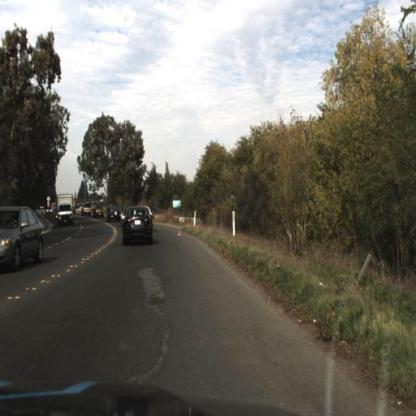car: (1, 204, 47, 274), (121, 206, 156, 243), (108, 202, 124, 228), (91, 205, 108, 226), (79, 196, 93, 220)
truck: (51, 186, 80, 232), (56, 192, 76, 230)
